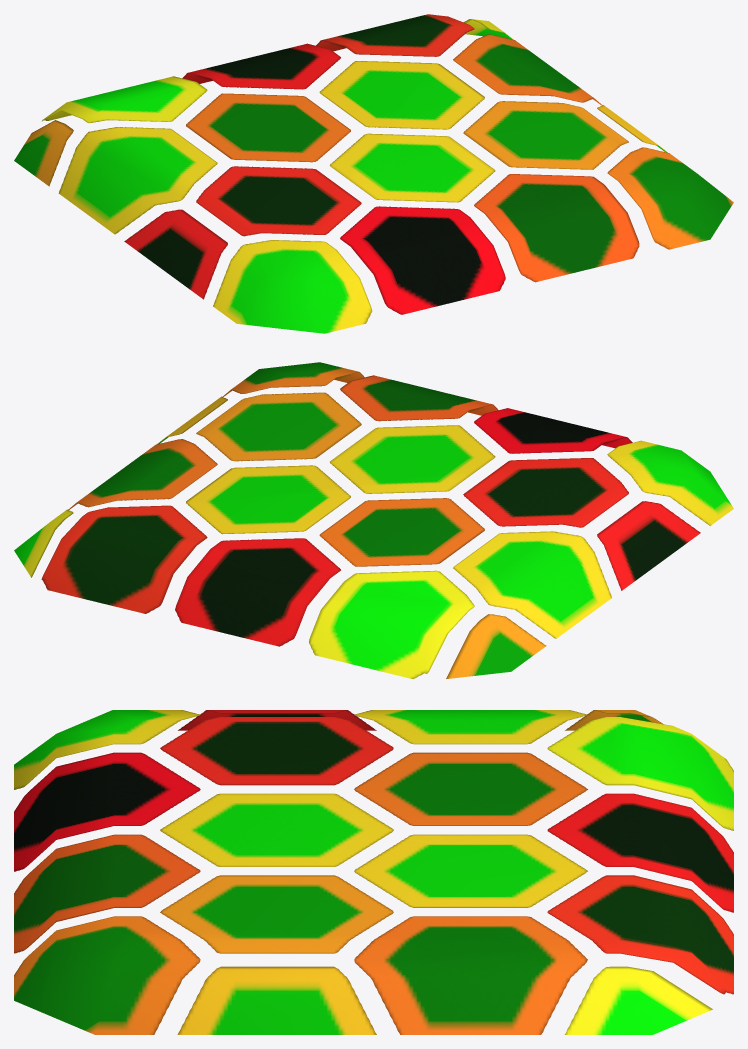
The model's file is hologram_furnacefield_01_geo.fbx.
3 views of the same model, one above another, from view 1: azimuth 30°, elevation 25°; view 2: azimuth 150°, elevation 25°; view 3: azimuth 270°, elevation 25° (orthographic). The views are drawn at different scales.
Visible parts, largest first — view 1: Cube; view 2: Cube; view 3: Cube.
Part boxes in pixels (x1,y1,x2,y2): Cube: (14, 14, 733, 333); Cube: (14, 362, 733, 678); Cube: (14, 710, 733, 1034).
Size of the model in its own units: 0.9604 by 0.0771 by 0.9604.
